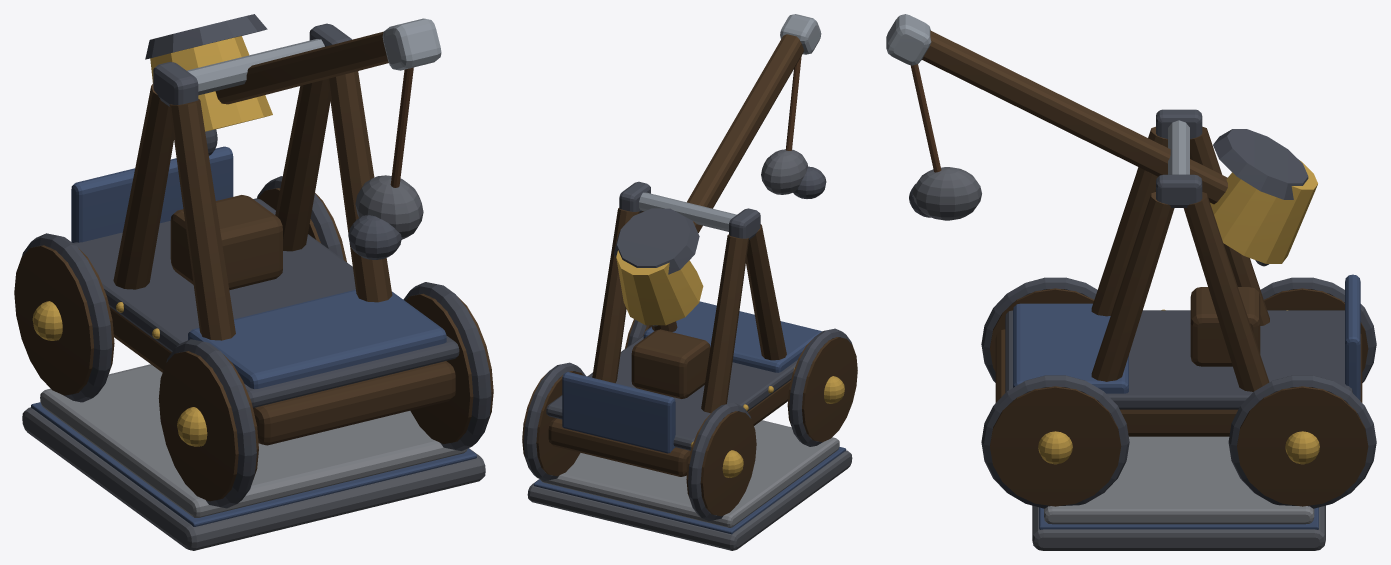
Rendered from siege.glb.
3 renders of one model, left to right at view 1: azimuth 30°, elevation 25°; view 2: azimuth 150°, elevation 25°; view 3: azimuth 270°, elevation 25°, orthographic. The views are drawn at different scales.
Parts seen in each view (by area): view 1: dwood (×2), dark (×2), owner, lstone, stone, brass (×2), steel (×2), leather; view 2: dwood (×2), dark (×2), owner, lstone, stone, brass (×2), steel (×2), leather; view 3: dwood (×2), dark (×2), lstone, owner, stone, brass (×2), steel (×2), leather.
Boxes of the visible parts, x1,y1,x2,y2 form: dwood (×2): [14, 31, 493, 501]; dark (×2): [22, 14, 491, 508]; owner: [31, 146, 476, 526]; lstone: [40, 364, 467, 517]; stone: [22, 175, 485, 550]; brass (×2): [32, 36, 272, 446]; steel (×2): [187, 18, 441, 95]; leather: [390, 67, 413, 187]; dwood (×2): [522, 34, 857, 516]; dark (×2): [523, 166, 852, 520]; owner: [534, 301, 846, 534]; lstone: [540, 420, 839, 527]; stone: [527, 149, 852, 550]; brass (×2): [616, 250, 844, 477]; steel (×2): [639, 14, 821, 231]; leather: [785, 56, 801, 150]; dwood (×2): [922, 30, 1368, 506]; dark (×2): [909, 109, 1376, 508]; lstone: [1044, 436, 1314, 524]; owner: [1013, 274, 1360, 529]; stone: [912, 167, 1325, 550]; brass (×2): [1038, 160, 1319, 464]; steel (×2): [886, 14, 1189, 174]; leather: [910, 64, 941, 172].
Bounding box in the file's own units: 0.76 × 1.35 × 1.27.
